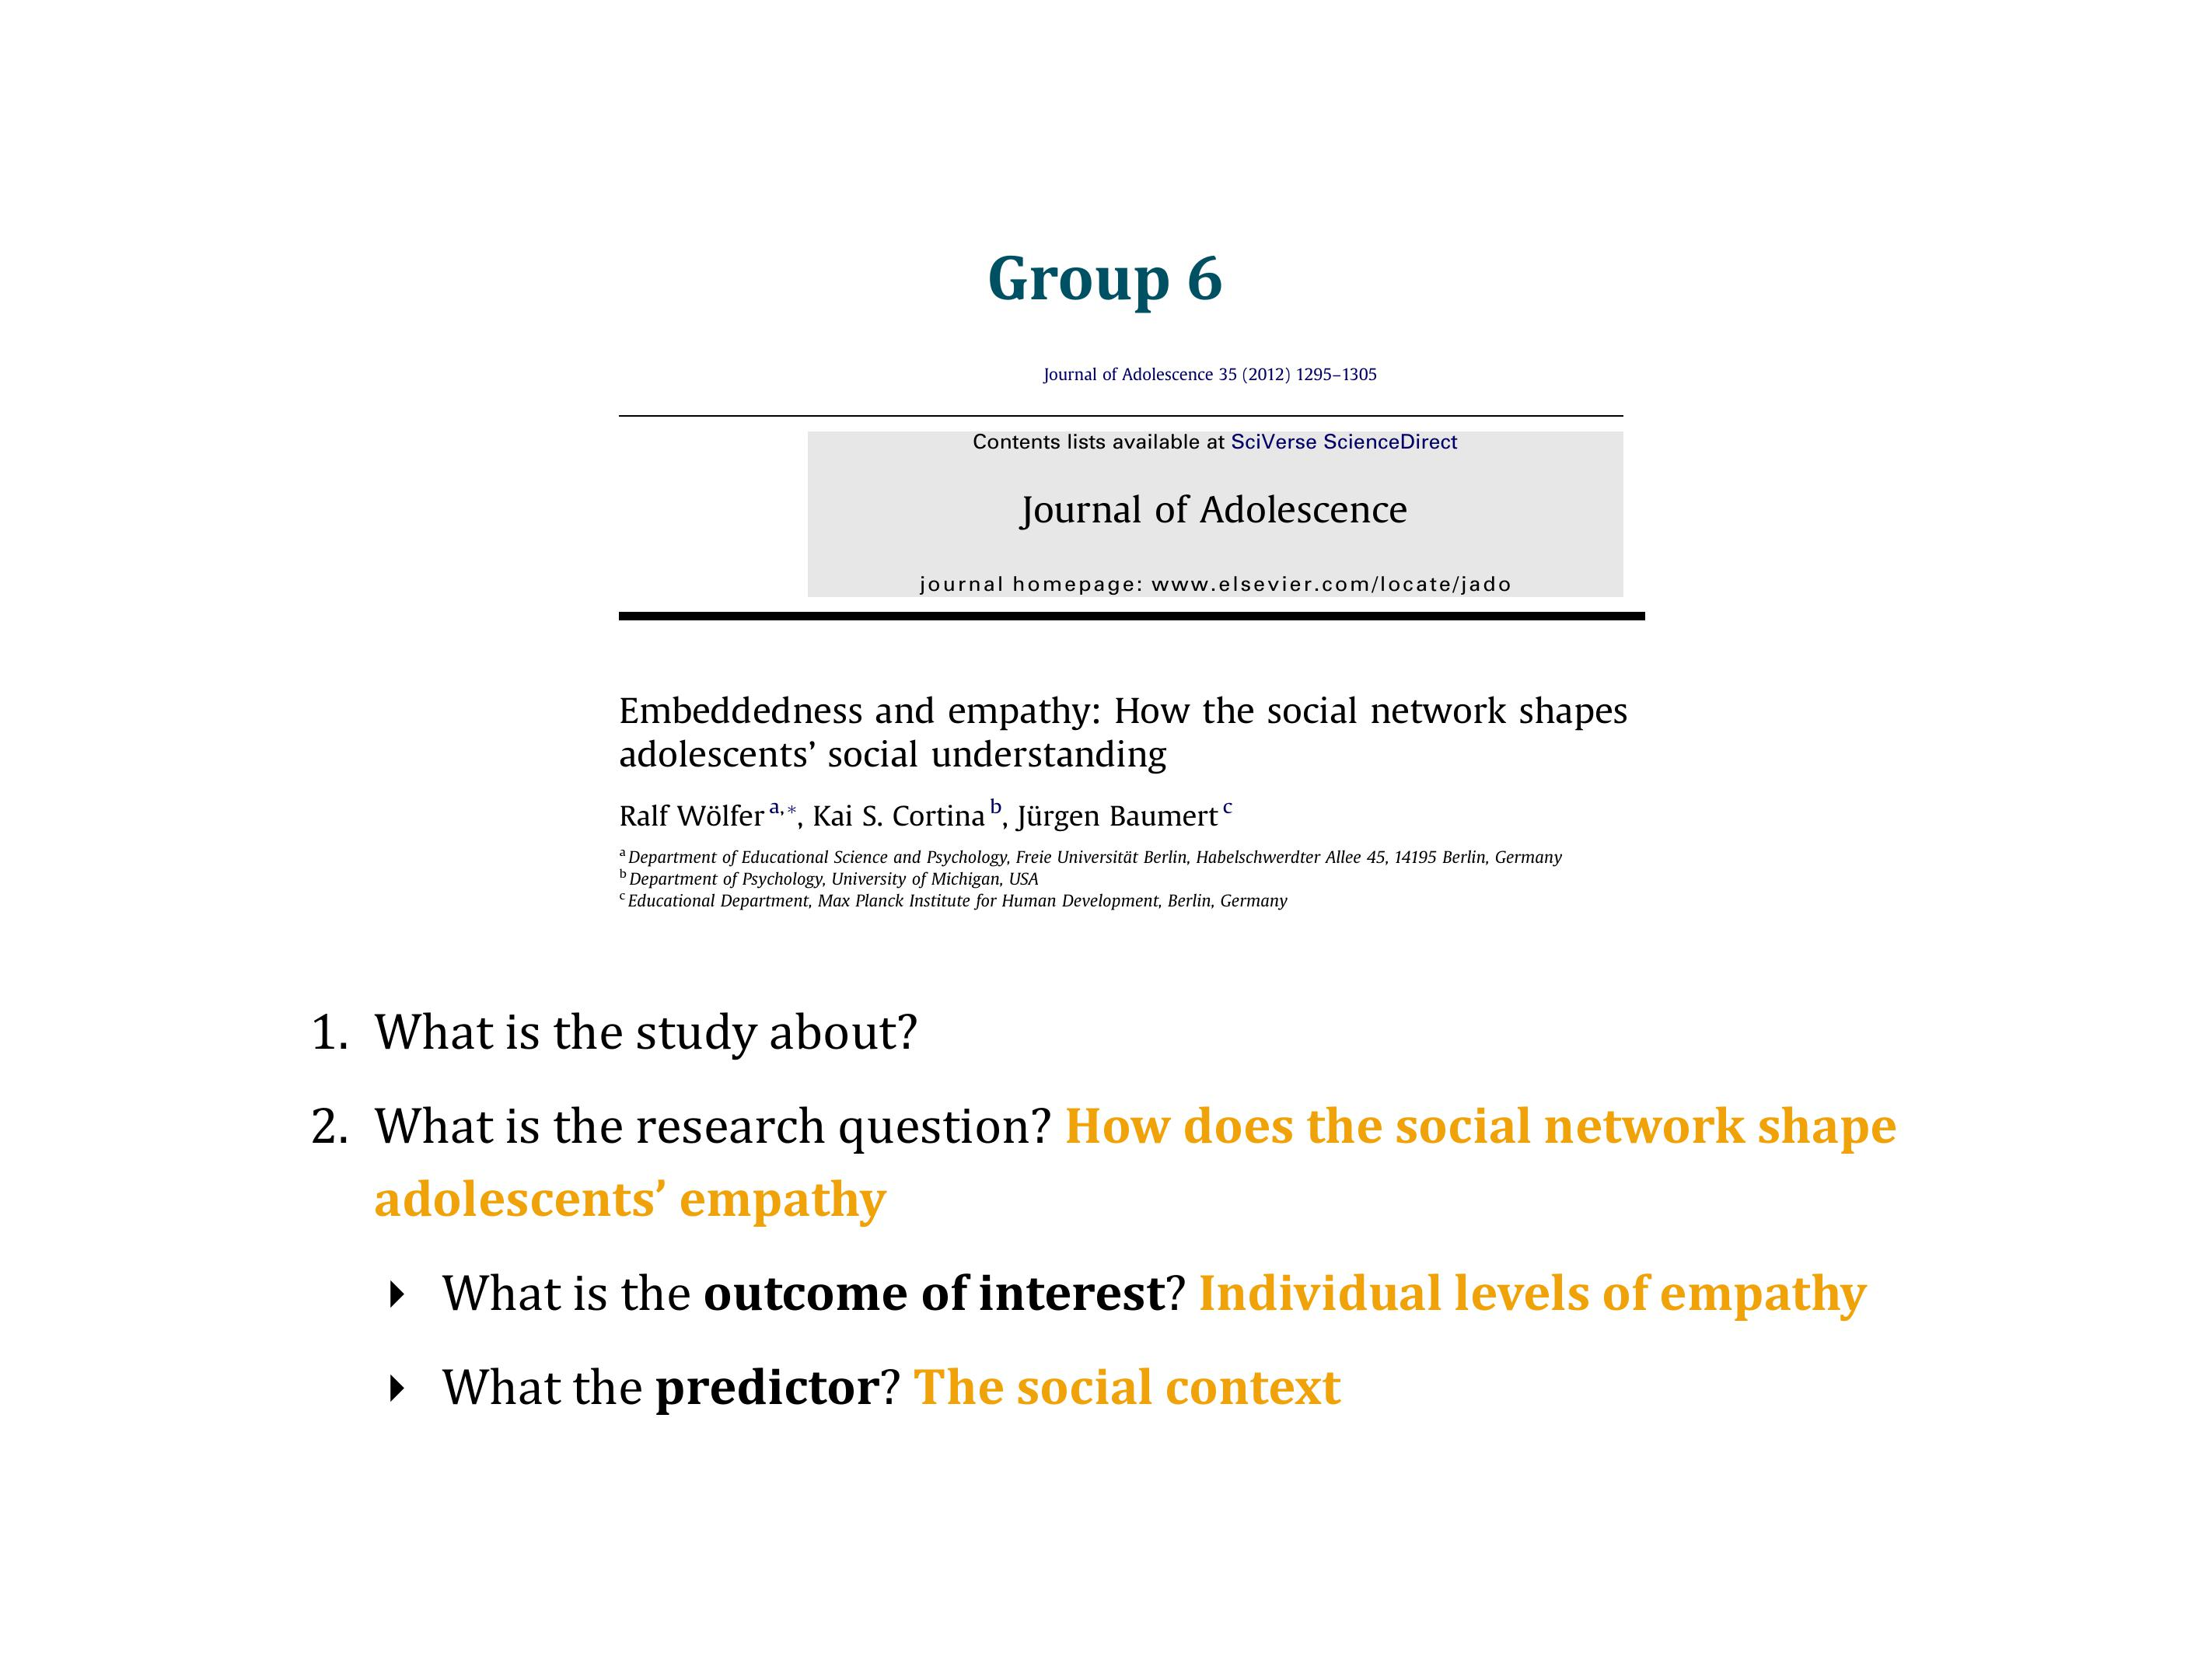Title: (980, 239, 1232, 324)
